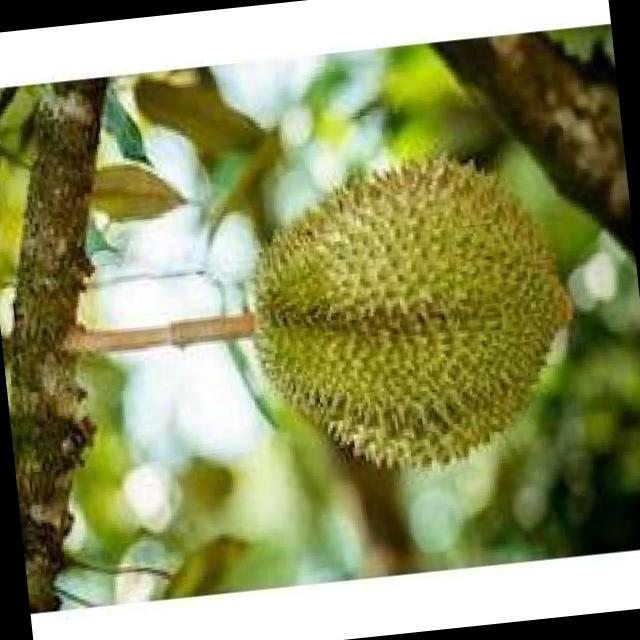fruit: (202, 94, 628, 520), (0, 287, 122, 533)
